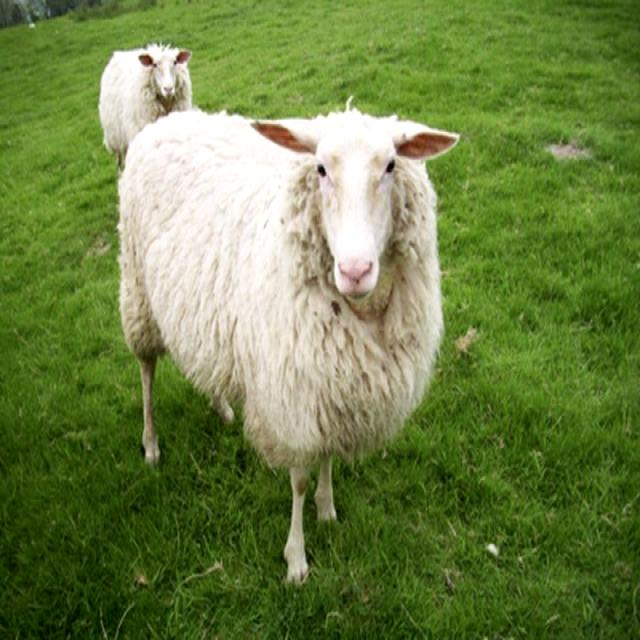sheep: (119, 113, 461, 584), (98, 45, 194, 160)
